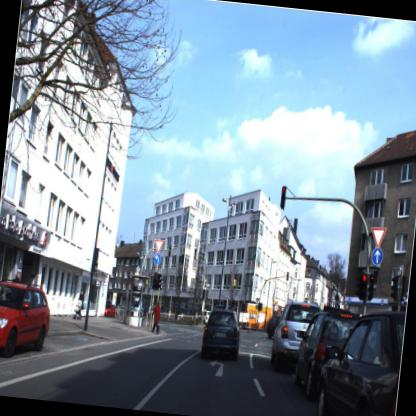mandatory: (367, 245, 385, 268), (152, 253, 163, 268)
other: (365, 219, 391, 250), (152, 235, 166, 255)
